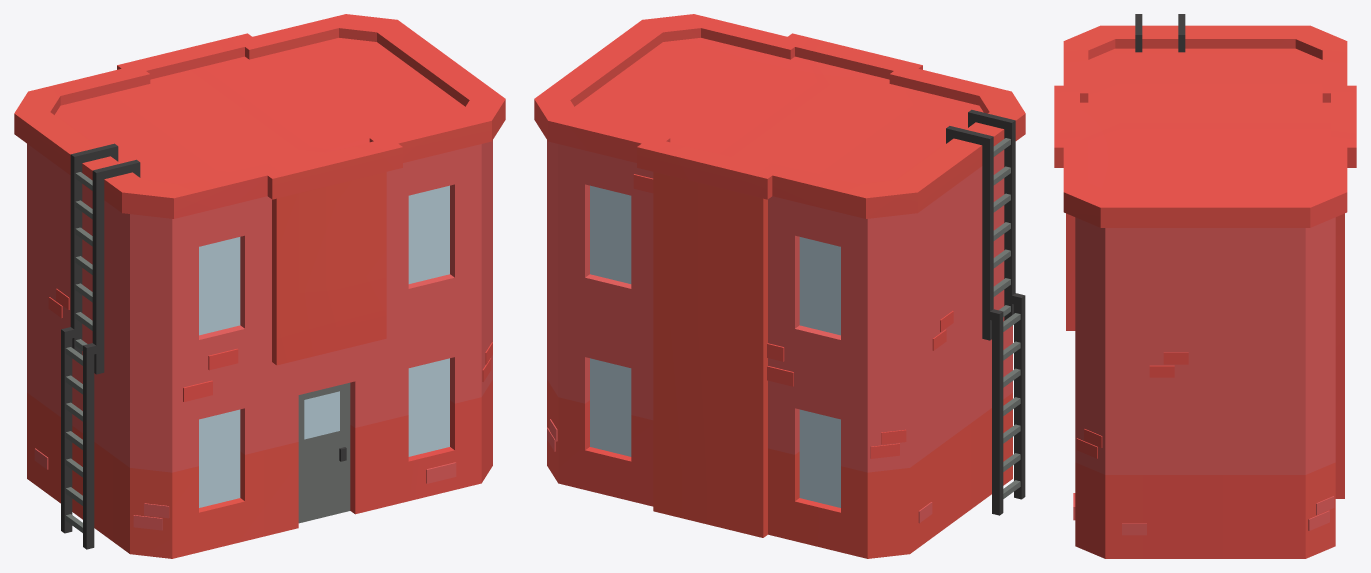
The model's file is city_building.glb.
3 views of the same model, side by side, from view 1: azimuth 30°, elevation 25°; view 2: azimuth 150°, elevation 25°; view 3: azimuth 270°, elevation 25° (orthographic). The views are drawn at different scales.
Parts seen in each view (by area): view 1: Building_9; view 2: Building_9; view 3: Building_9.
Boxes of the visible parts, left/top/right/bottom form: Building_9: left=14, top=14, right=505, bottom=558; Building_9: left=534, top=14, right=1025, bottom=558; Building_9: left=1054, top=14, right=1356, bottom=558.
Bounding box in the file's own units: 3.97 × 3.54 × 2.66.
Materials: 1 (1 with a texture image).
